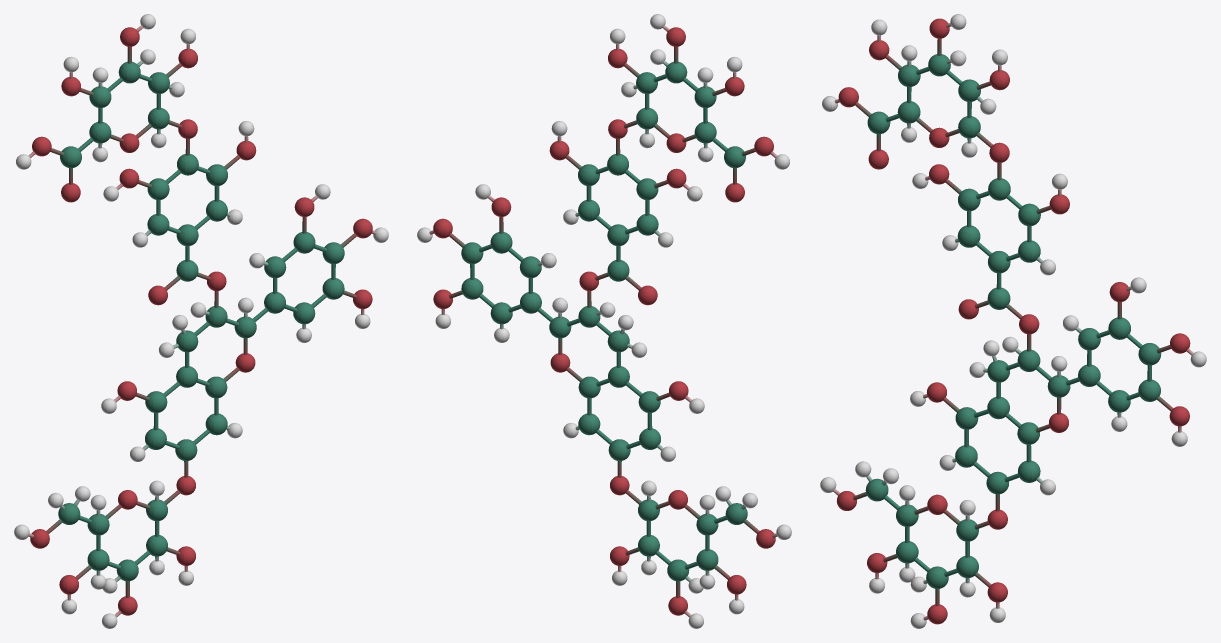
File: EGCG.fbx
3 renders of one model, left to right at view 1: azimuth 30°, elevation 25°; view 2: azimuth 150°, elevation 25°; view 3: azimuth 330°, elevation 25°, orthographic. The views are drawn at different scales.
Visible parts, largest first — view 1: curMeshHyperballExportedMesh; view 2: curMeshHyperballExportedMesh; view 3: curMeshHyperballExportedMesh.
Boxes of the visible parts, x1,y1,x2,y2 form: curMeshHyperballExportedMesh: (14,14,388,628); curMeshHyperballExportedMesh: (417,14,791,628); curMeshHyperballExportedMesh: (820,14,1206,628).
Size of the model in its own units: 11.03 by 17.09 by 0.5667.
